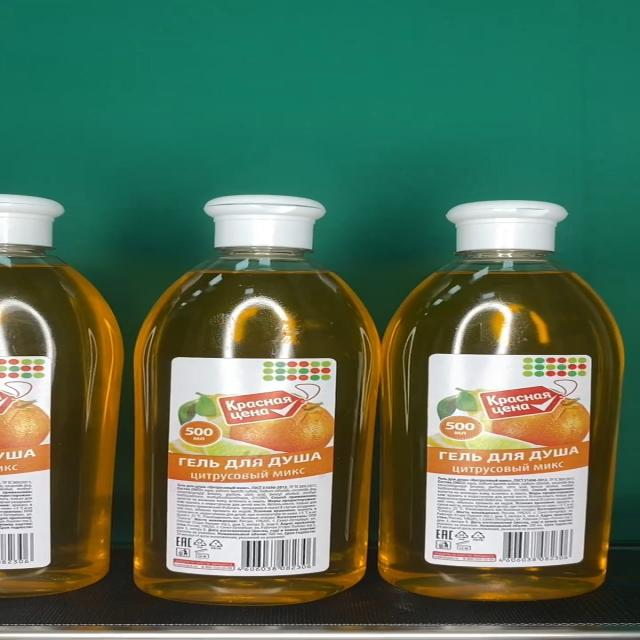Bottle: (134, 196, 384, 605), (378, 200, 626, 599)
Cap: (443, 200, 568, 252), (205, 196, 327, 248)
